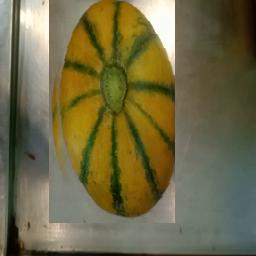Melon Semifresh: (49, 0, 175, 223)
